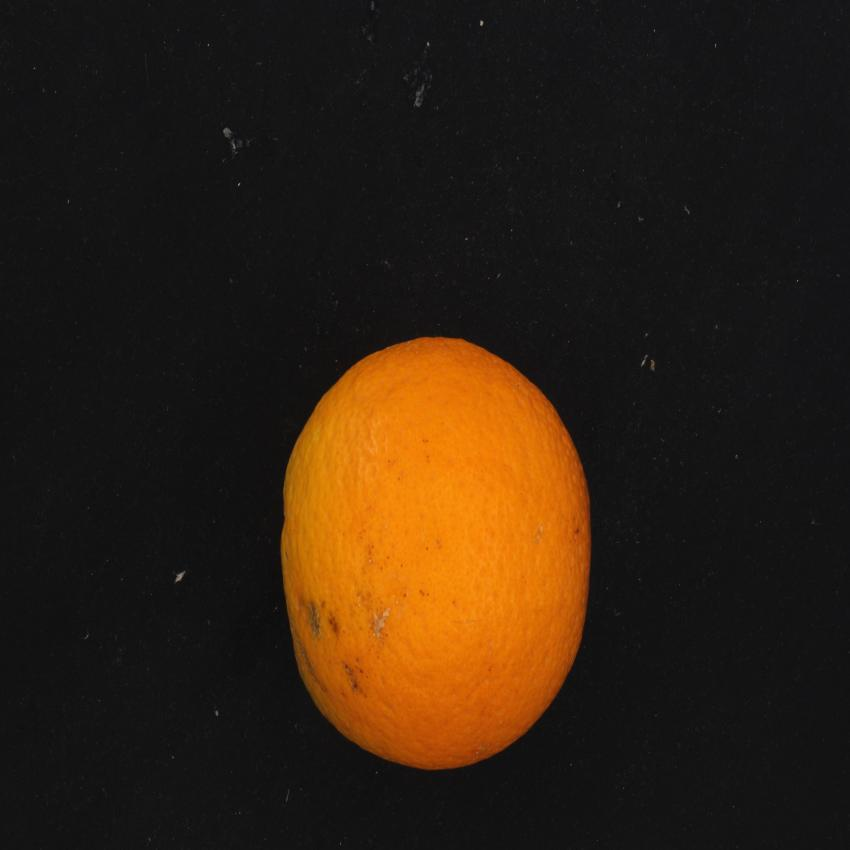Buen estado: (268, 317, 611, 796)
